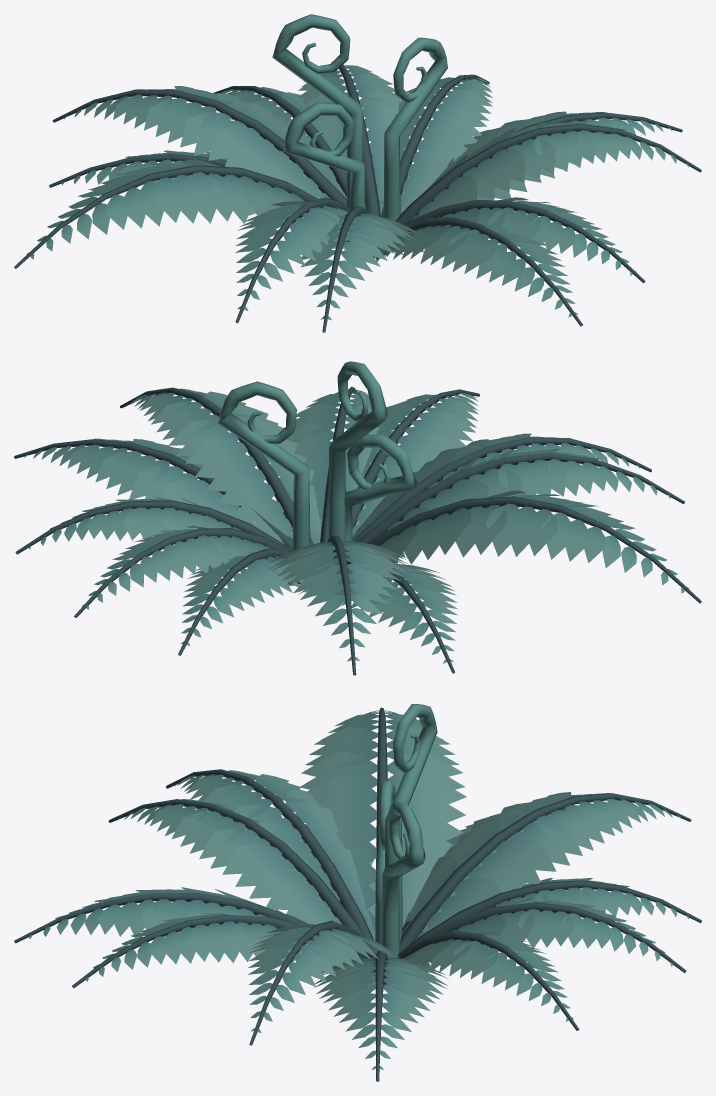
The model's file is fern_a.glb.
3 renders of one model, top to bottom at view 1: azimuth 30°, elevation 25°; view 2: azimuth 150°, elevation 25°; view 3: azimuth 270°, elevation 25°, orthographic. The views are drawn at different scales.
Visible parts, largest first — view 1: fern_a; view 2: fern_a; view 3: fern_a.
Boxes of the visible parts, box(x1,y1,x2,y2) form: fern_a: box(14, 14, 701, 332); fern_a: box(14, 361, 701, 675); fern_a: box(14, 704, 701, 1081).
Size of the model in its own units: 2.72 by 0.9482 by 2.34.
